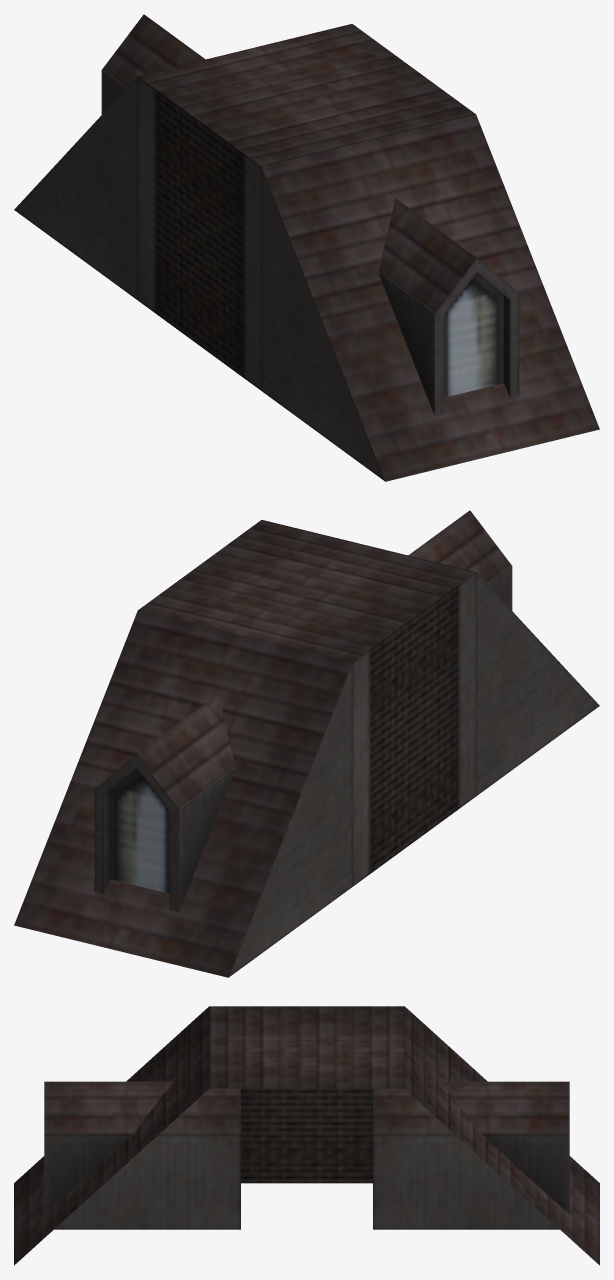
The model's file is B10_RoofSide.FBX.
3 renders of one model, top to bottom at view 1: azimuth 30°, elevation 25°; view 2: azimuth 150°, elevation 25°; view 3: azimuth 270°, elevation 25°, orthographic. The views are drawn at different scales.
Visible parts, largest first — view 1: B10_RoofSide; view 2: B10_RoofSide; view 3: B10_RoofSide.
Part boxes in pixels (box(x1,y1,x2,y2)): B10_RoofSide: box(14, 14, 599, 481); B10_RoofSide: box(14, 510, 599, 977); B10_RoofSide: box(14, 1006, 599, 1265).
Bounding box in the file's own units: 4 × 4 × 12.
